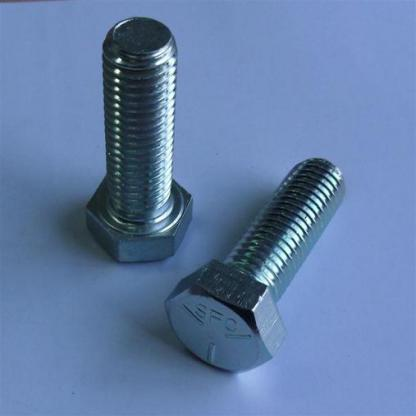FOD: (162, 154, 350, 378), (82, 11, 197, 266)
